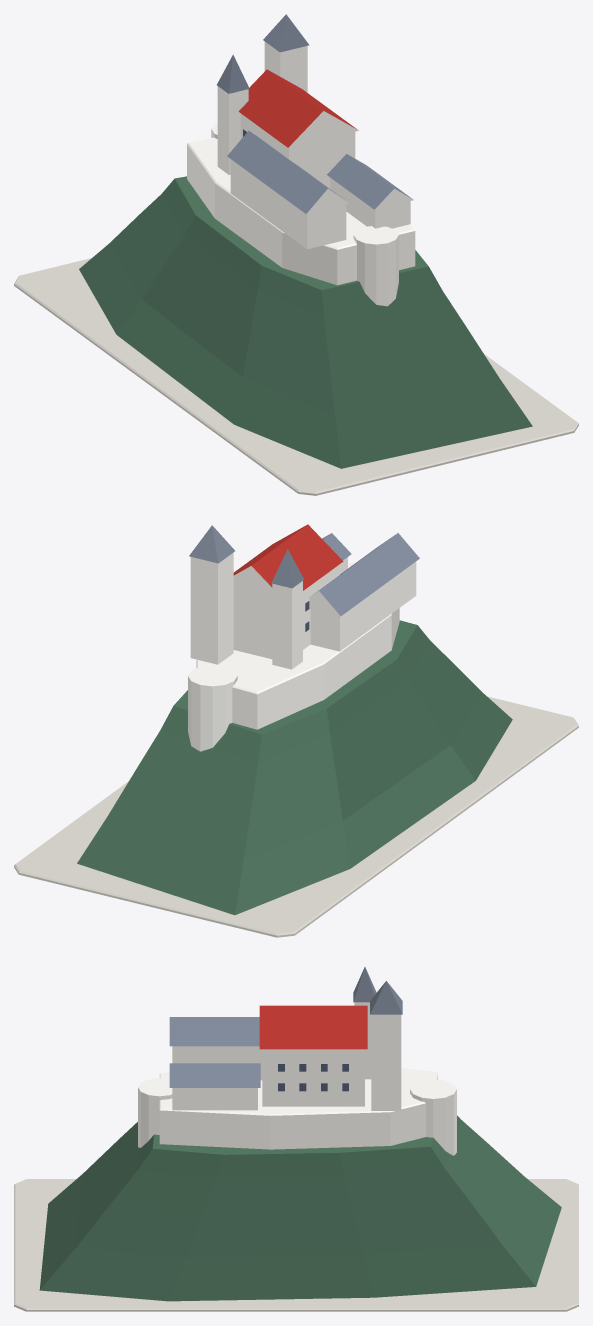
The model's file is salzburg.glb.
3 renders of one model, top to bottom at view 1: azimuth 30°, elevation 25°; view 2: azimuth 150°, elevation 25°; view 3: azimuth 270°, elevation 25°, orthographic. The views are drawn at different scales.
Parts seen in each view (by area): view 1: model; view 2: model; view 3: model.
Part boxes in pixels (bbox=[...]): model: bbox=[14, 14, 578, 495]; model: bbox=[14, 524, 578, 937]; model: bbox=[14, 967, 578, 1311].
Bounding box in the file's own units: 72 × 73 × 132.
